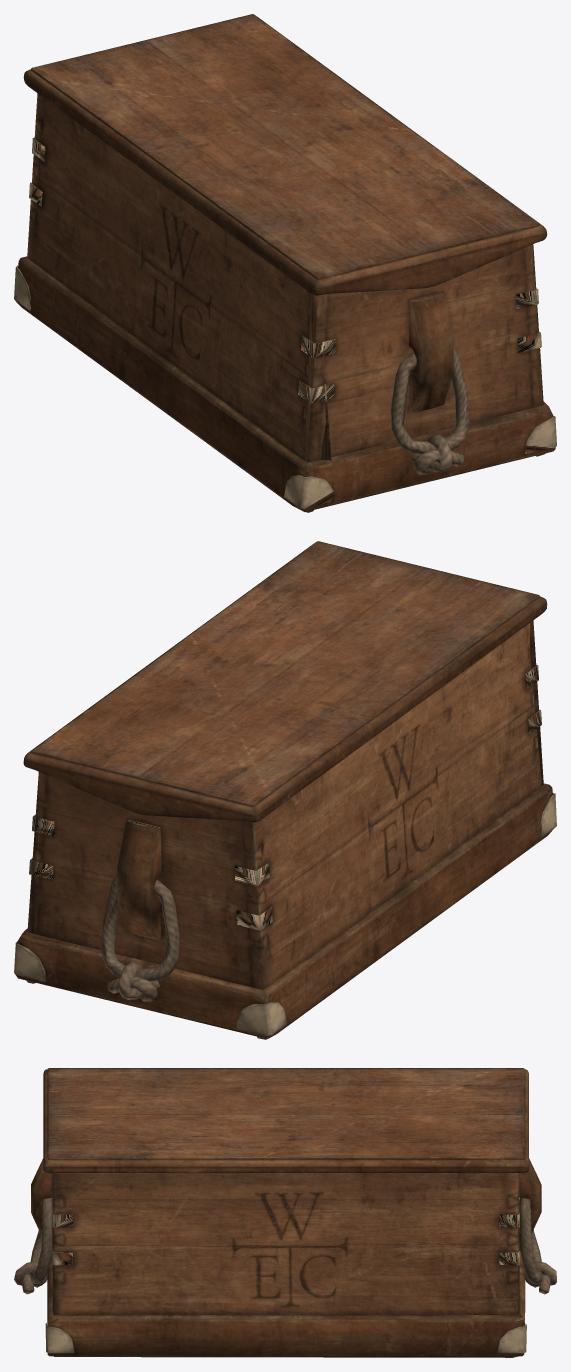
The model's file is model-ultra.gltf.
3 views of the same model, one above another, from view 1: azimuth 30°, elevation 25°; view 2: azimuth 150°, elevation 25°; view 3: azimuth 270°, elevation 25° (orthographic). The views are drawn at different scales.
Visible parts, largest first — view 1: wooden_crate_02-0, wooden_crate_02-1; view 2: wooden_crate_02-0, wooden_crate_02-1; view 3: wooden_crate_02-0, wooden_crate_02-1.
Part boxes in pixels (x1,y1,x2,y2): wooden_crate_02-0: (14, 93, 556, 512); wooden_crate_02-1: (23, 14, 547, 295); wooden_crate_02-0: (14, 620, 556, 1039); wooden_crate_02-1: (23, 541, 547, 822); wooden_crate_02-0: (14, 1158, 556, 1357); wooden_crate_02-1: (43, 1068, 528, 1172).
Size of the model in its own units: 1.14 by 1 by 2.51.
Materials: 1 (1 with a texture image).
